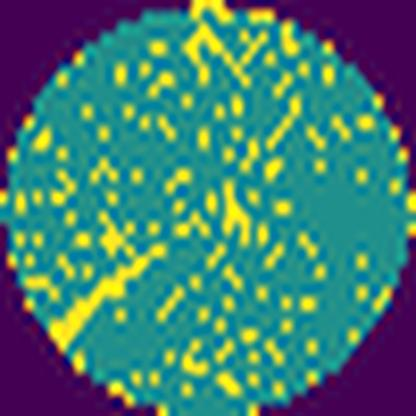Scratch: (43, 240, 171, 356), (218, 181, 254, 250)
